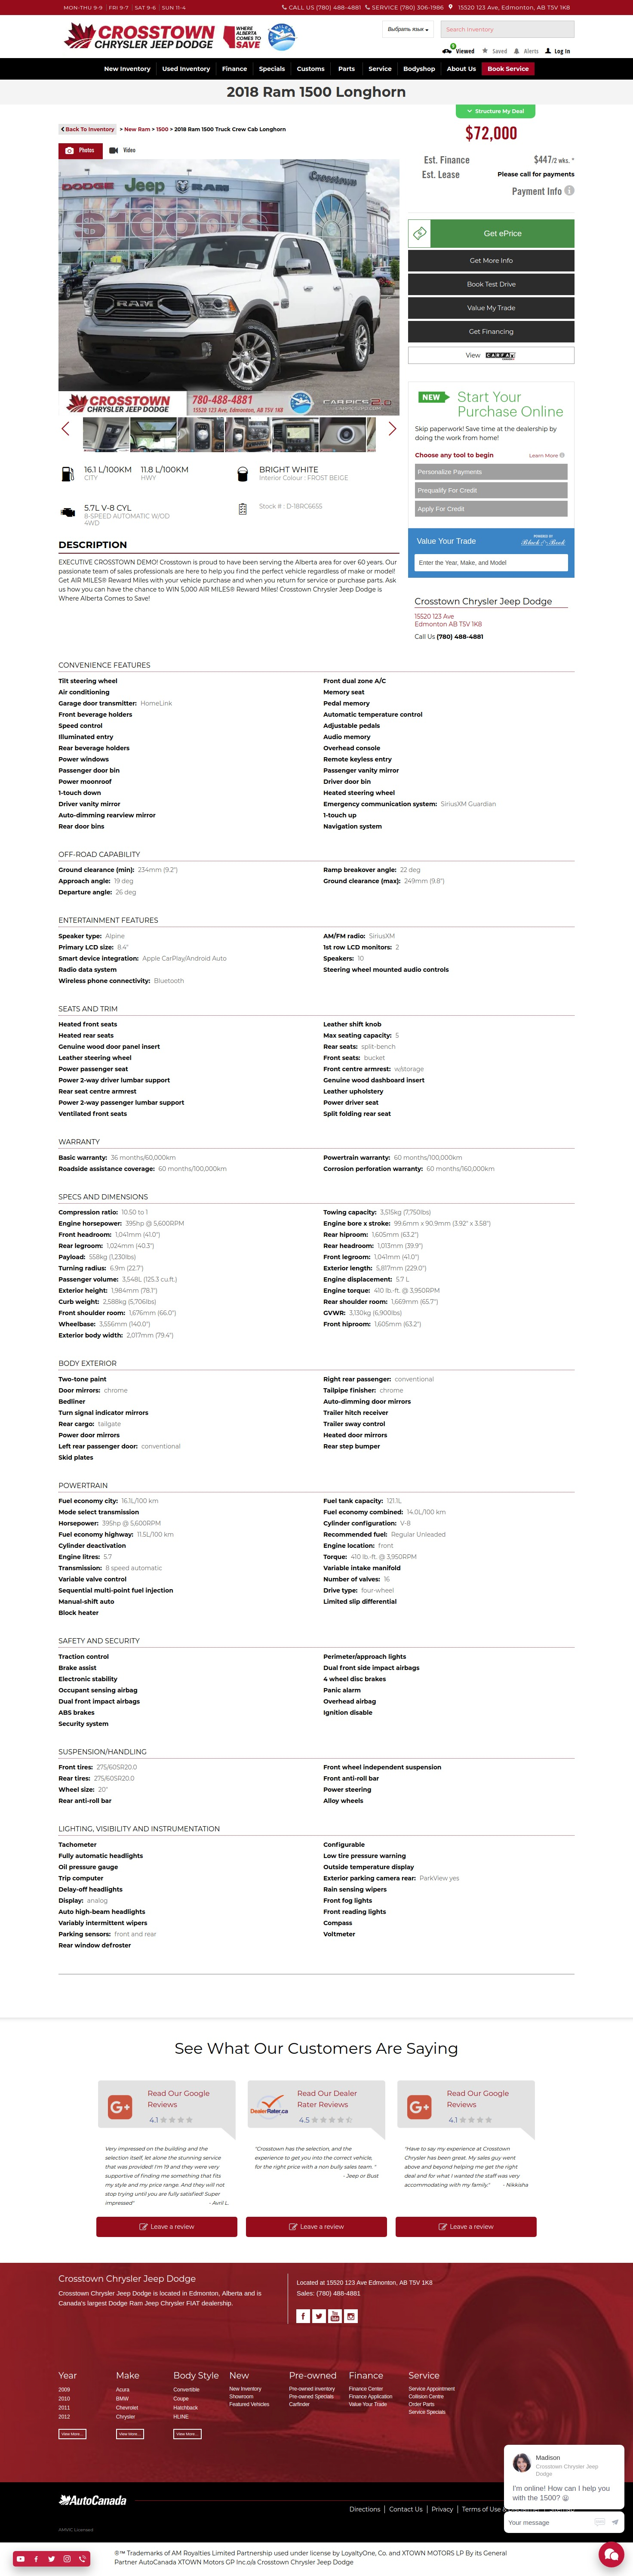car: (388, 421, 398, 437)
